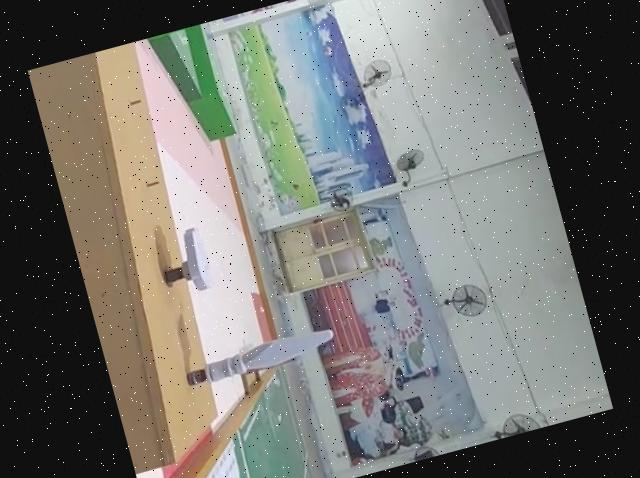Hand: (154, 222, 219, 299)
Sph: (182, 325, 339, 393)
